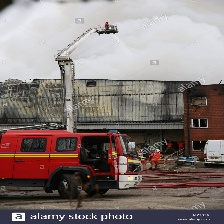smoke: (3, 1, 224, 73)
